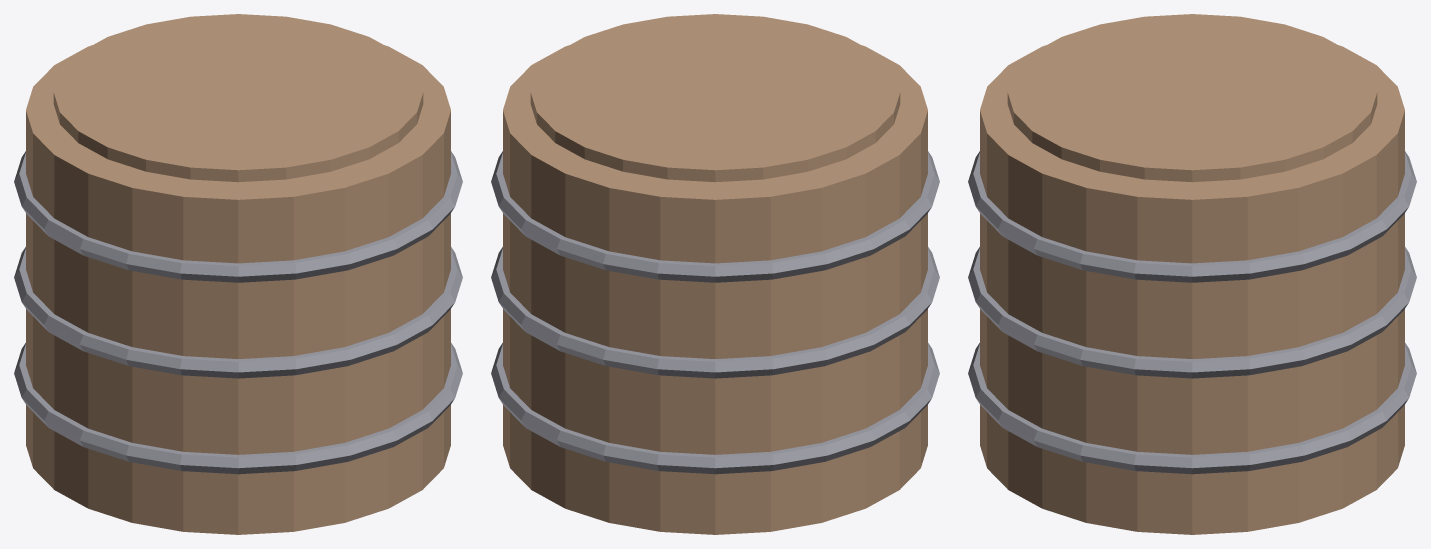
File: fass_lod0.fbx
3 views of the same model, side by side, from view 1: azimuth 30°, elevation 25°; view 2: azimuth 150°, elevation 25°; view 3: azimuth 270°, elevation 25° (orthographic).
Visible parts, largest first — view 1: Cylinder, Cylinder.001, Torus.002, Torus, Torus.001; view 2: Cylinder, Cylinder.001, Torus.002, Torus, Torus.001; view 3: Cylinder, Cylinder.001, Torus.002, Torus, Torus.001.
Part boxes in pixels (<box>): Cylinder: <box>26,45,450,534</box>; Cylinder.001: <box>53,14,423,182</box>; Torus.002: <box>14,151,462,282</box>; Torus: <box>14,343,462,474</box>; Torus.001: <box>14,247,462,378</box>; Cylinder: <box>503,45,927,534</box>; Cylinder.001: <box>530,14,900,182</box>; Torus.002: <box>491,151,939,282</box>; Torus: <box>491,343,939,474</box>; Torus.001: <box>491,247,939,378</box>; Cylinder: <box>980,45,1404,534</box>; Cylinder.001: <box>1007,14,1377,182</box>; Torus.002: <box>968,151,1416,282</box>; Torus: <box>968,343,1416,474</box>; Torus.001: <box>968,247,1416,378</box>.
Bounding box in the file's own units: 1.7 × 1.48 × 1.7.
